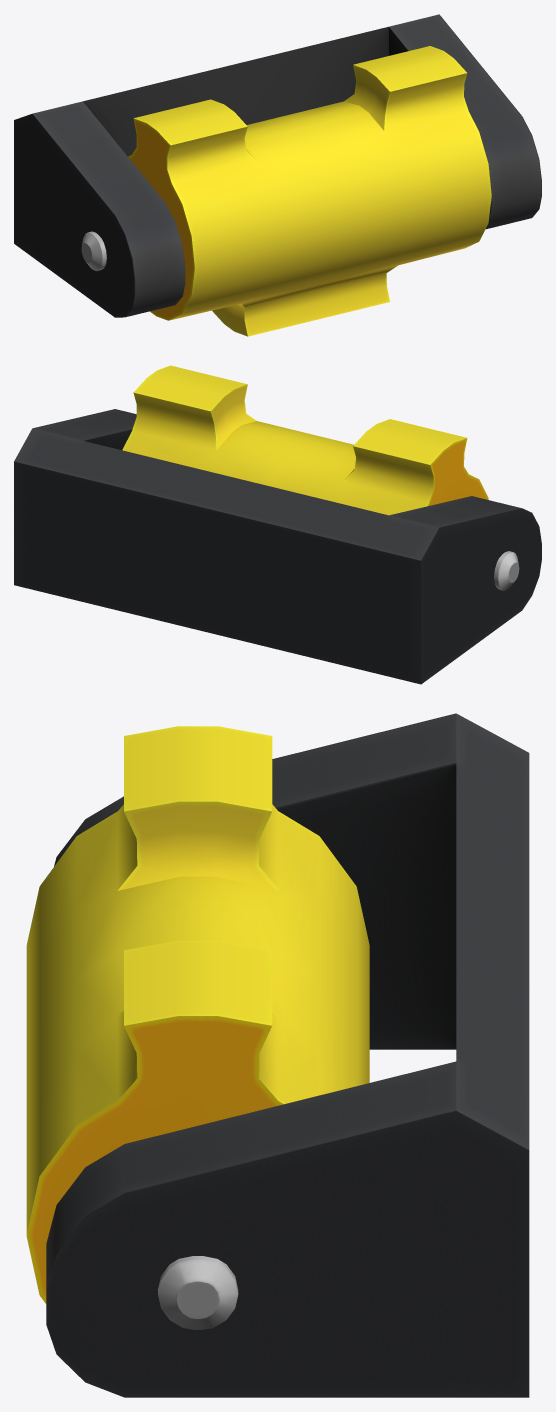
File: front_drum_spinner_arena_1.fbx
3 views of the same model, one above another, from view 1: azimuth 30°, elevation 25°; view 2: azimuth 150°, elevation 25°; view 3: azimuth 270°, elevation 25° (orthographic). The views are drawn at different scales.
Visible parts, largest first — view 1: Cylinder.149, Cube.062; view 2: Cube.062, Cylinder.149; view 3: Cube.062, Cylinder.149.
Part boxes in pixels (x1,y1,x2,y2): Cylinder.149: (81,46,491,336); Cube.062: (14,14,541,317); Cube.062: (14,409,541,684); Cylinder.149: (122,365,519,590); Cube.062: (46,713,529,1397); Cylinder.149: (26,726,369,1329).
Size of the model in its own units: 187 by 91.81 by 95.21.
